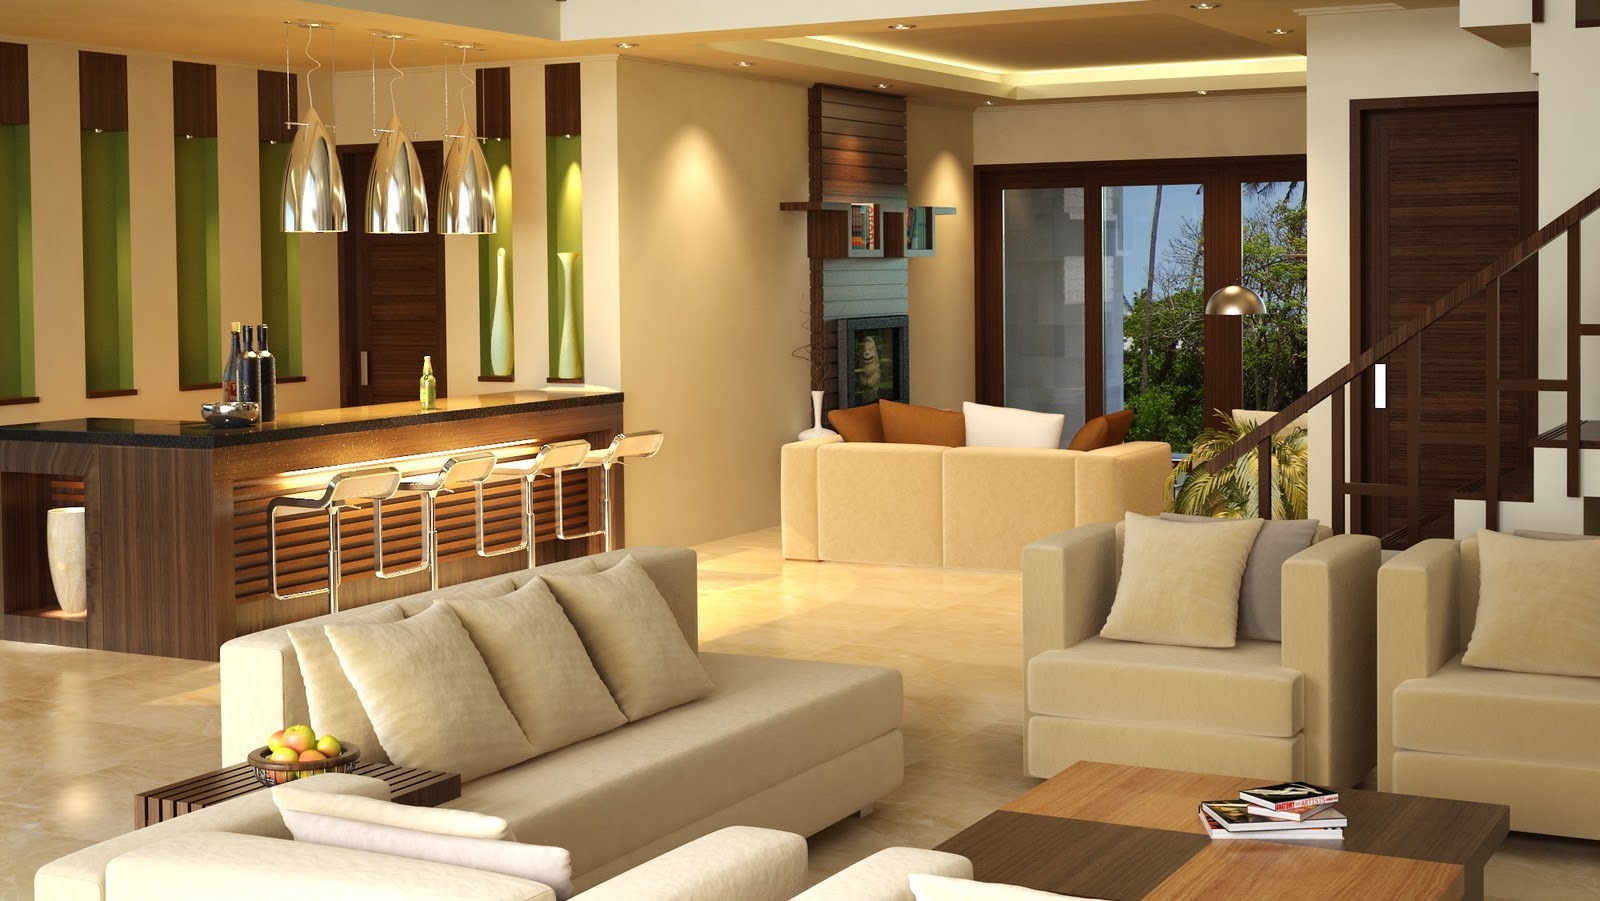bantal: (336, 607, 542, 771), (462, 583, 629, 738), (567, 564, 718, 709), (1107, 516, 1245, 647), (1473, 527, 1600, 669), (962, 396, 1064, 449), (880, 398, 962, 447)
buku: (1198, 787, 1349, 846)
meja: (4, 381, 633, 556), (947, 750, 1516, 900)
sova: (216, 550, 907, 813), (1022, 507, 1367, 780), (1384, 526, 1600, 800), (774, 434, 1191, 561)
